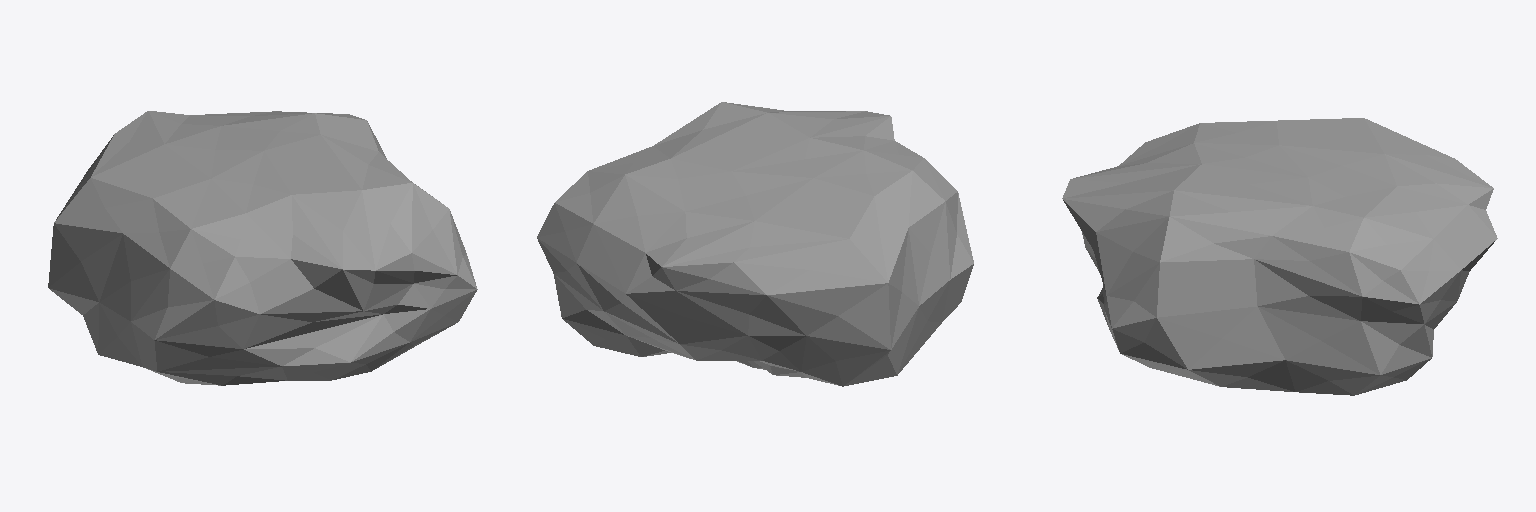
The model's file is rock.obj.
The picture shows the model from 3 angles: view 1: azimuth 30°, elevation 25°; view 2: azimuth 150°, elevation 25°; view 3: azimuth 270°, elevation 25°; orthographic projection.
Parts seen in each view (by area): view 1: Cube; view 2: Cube; view 3: Cube.
Boxes of the visible parts, box(x1,y1,x2,y2) form: Cube: box(48, 111, 477, 385); Cube: box(537, 102, 973, 386); Cube: box(1062, 118, 1497, 395).
Size of the model in its own units: 7.52 by 3.98 by 8.57.